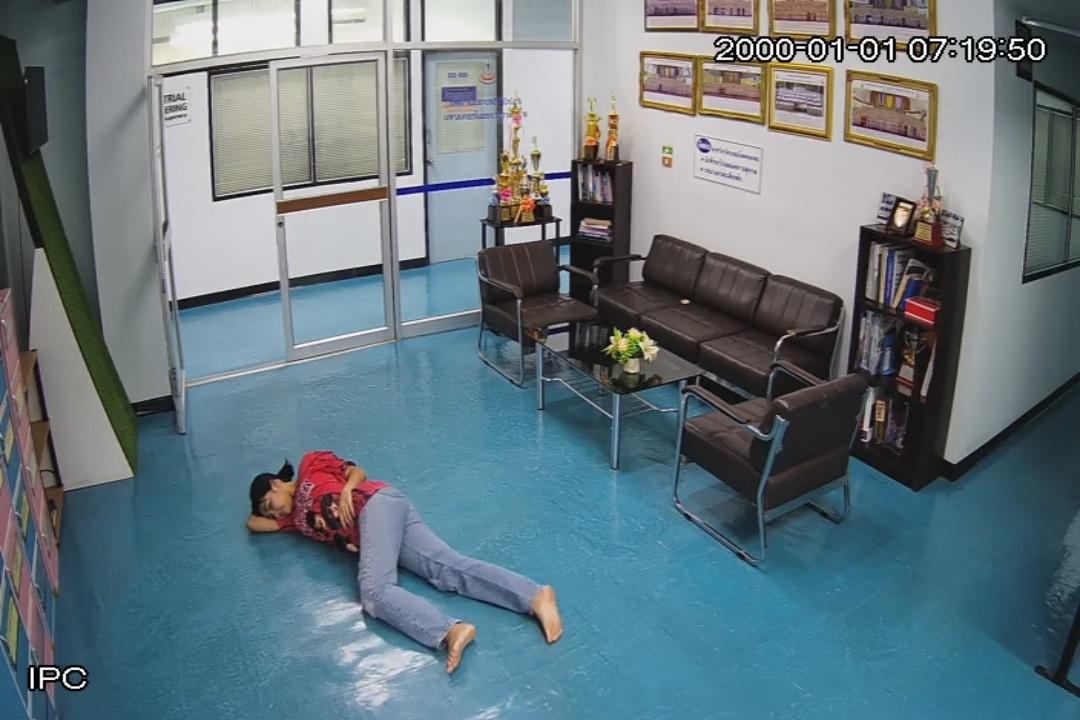fall: (250, 449, 562, 676)
